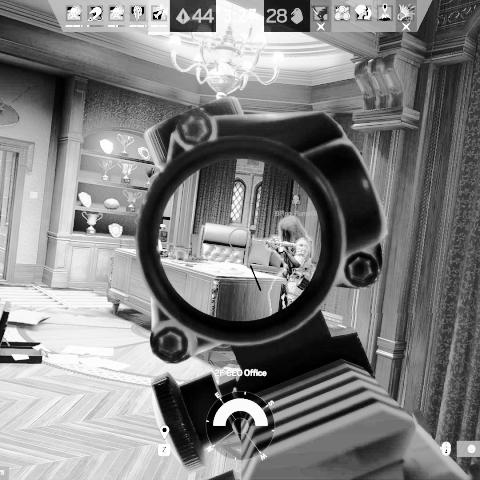Character: (260, 216, 316, 314)
Friend_label: (274, 194, 318, 216)
Head: (279, 217, 305, 243)
